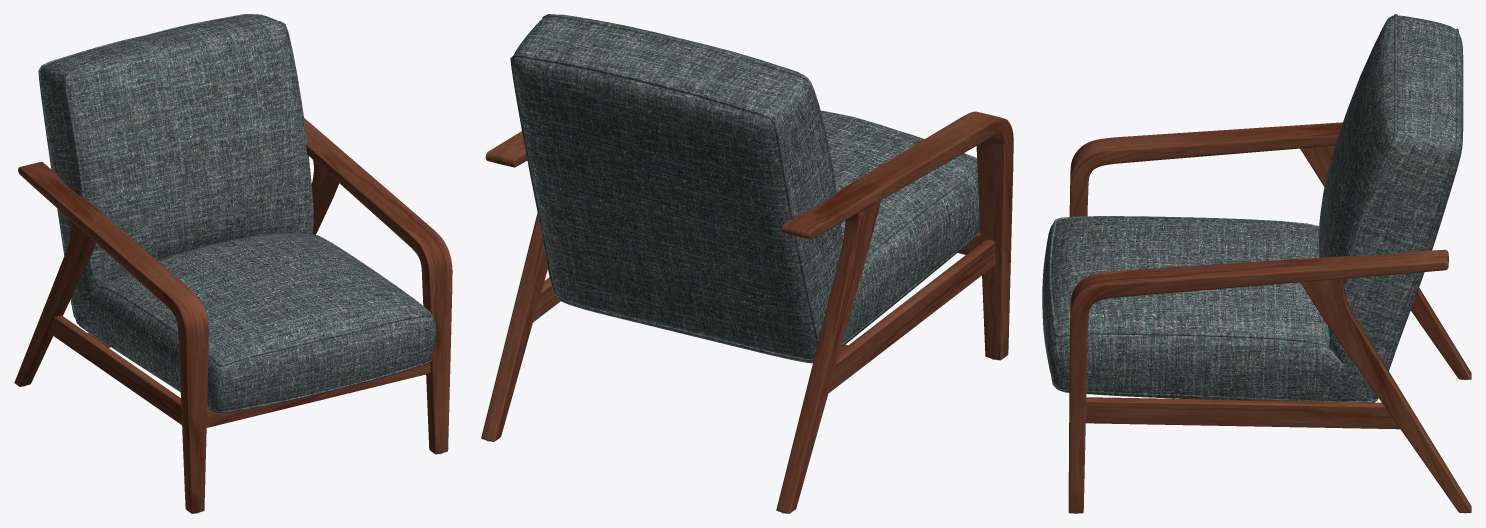
Rendered from huxley_mid_century_accent_chair.glb.
3 views of the same model, side by side, from view 1: azimuth 30°, elevation 25°; view 2: azimuth 150°, elevation 25°; view 3: azimuth 270°, elevation 25° (orthographic). The views are drawn at different scales.
Parts seen in each view (by area): view 1: B07124WN69; view 2: B07124WN69; view 3: B07124WN69.
Part boxes in pixels (box(x1,y1,x2,y2)): B07124WN69: box(14, 14, 452, 513); B07124WN69: box(481, 14, 1013, 513); B07124WN69: box(1042, 14, 1471, 513).
Size of the model in its own units: 0.7188 by 0.8636 by 0.889.
Materials: 1 (1 with a texture image).
